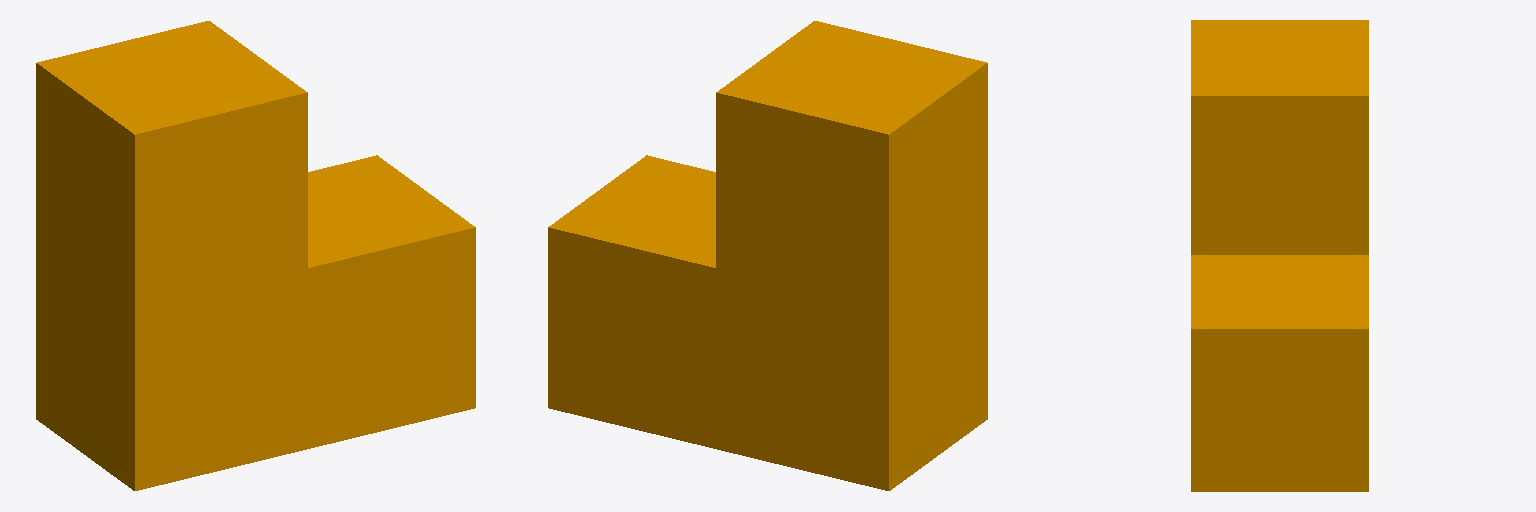
URDF robot description (2_2L_1):
<robot name="2_2L_1">
  <link name="link">
    <visual>
      <geometry>
        <mesh filename="2_2L_1.obj" scale="1 1 1"/>
      </geometry>
    </visual>
    <collision>
      <geometry>
        <mesh filename="2_2L_1.obj" scale="1 1 1"/>
      </geometry>
    </collision>
    <inertial>
      <mass value="1"/>
      <inertia ixx="1" iyy="1" izz="1" ixy="0" ixz="0" iyz="0"/>
      <origin xyz="0 0 0" rpy="0 0 0"/>
    </inertial>
  </link>
</robot>

--- Facts derived from the render (not from the file) ---
The picture shows the robot from 3 angles, left to right: view 1: azimuth 30°, elevation 25°; view 2: azimuth 150°, elevation 25°; view 3: azimuth 270°, elevation 25°; orthographic projection.
Model 2_2L_1 with 1 links and 0 joints (none), rooted at link, posed every joint at zero.
Links seen in each view (by area): view 1: link; view 2: link; view 3: link.
Boxes of the visible links, x1,y1,x2,y2 form: link: (36,21,475,490); link: (548,21,987,490); link: (1191,20,1368,491).
Size in the robot's own frame: 0.1178 by 0.0589 by 0.1178 metres.
Meshes: 1 distinct files referenced, 1 mesh visuals loaded (1 OBJ).